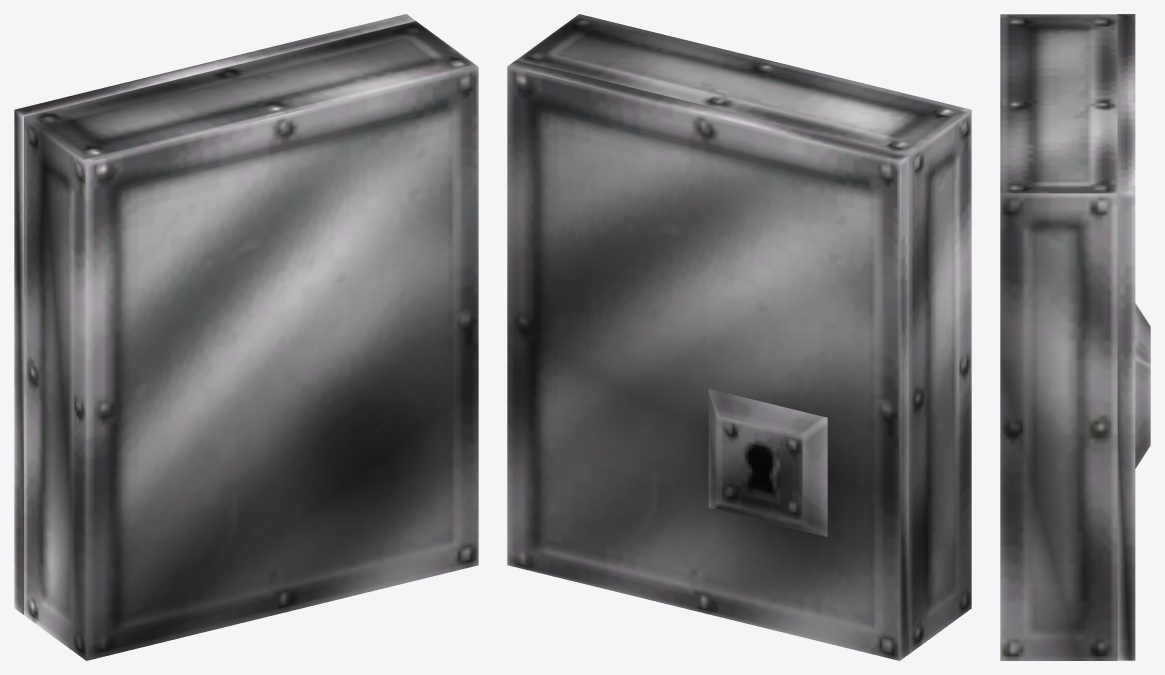
The model's file is INST_SWORDLIGHT_LOCKBOX_SILVER.fbx.
The picture shows the model from 3 angles, left to right: view 1: azimuth 30°, elevation 25°; view 2: azimuth 150°, elevation 25°; view 3: azimuth 270°, elevation 25°; orthographic projection. The views are drawn at different scales.
Visible parts, largest first — view 1: INST_SWORDLIGHT_LOCKBOX_SILVER; view 2: INST_SWORDLIGHT_LOCKBOX_SILVER; view 3: INST_SWORDLIGHT_LOCKBOX_SILVER.
Boxes of the visible parts, bbox=[...] form: INST_SWORDLIGHT_LOCKBOX_SILVER: bbox=[14, 14, 478, 660]; INST_SWORDLIGHT_LOCKBOX_SILVER: bbox=[507, 14, 971, 660]; INST_SWORDLIGHT_LOCKBOX_SILVER: bbox=[1000, 14, 1150, 660].
Bounding box in the file's own units: 7001 × 8503 × 2476.
Materials: 3 (3 with a texture image).
